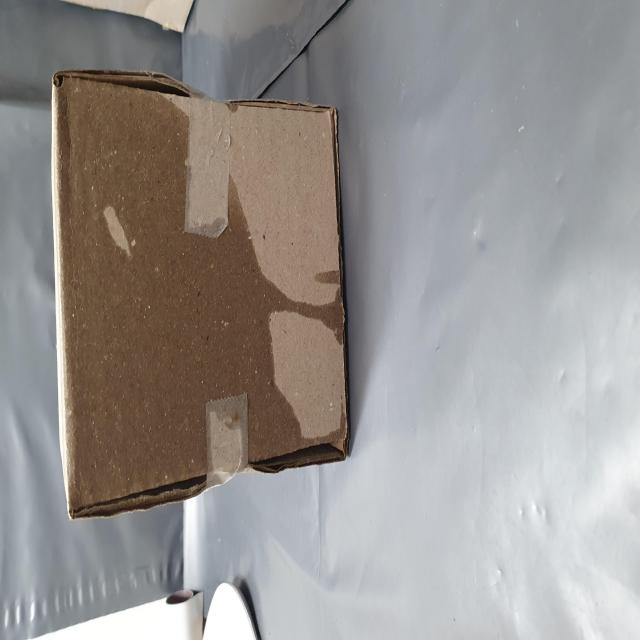wet: (58, 89, 332, 640)
